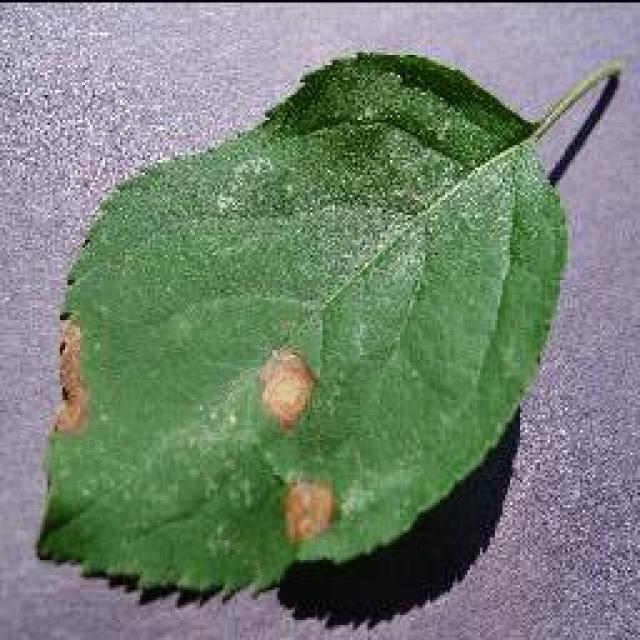apple black rot: (32, 48, 622, 628)
